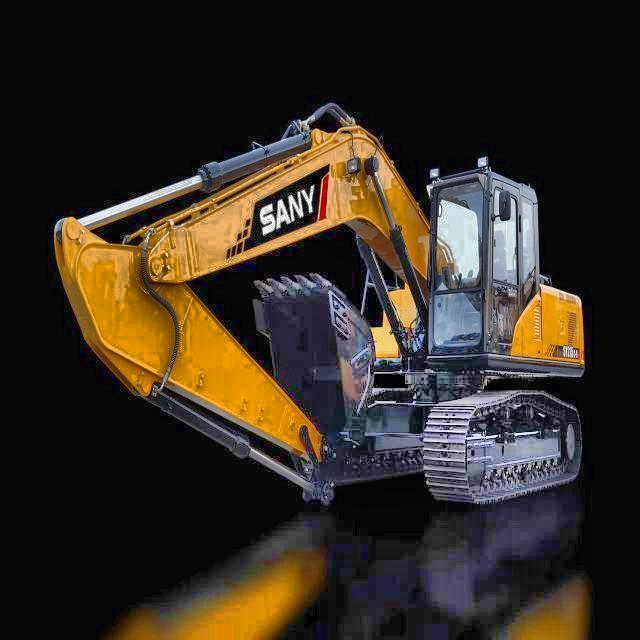excavator: (51, 101, 590, 512)
